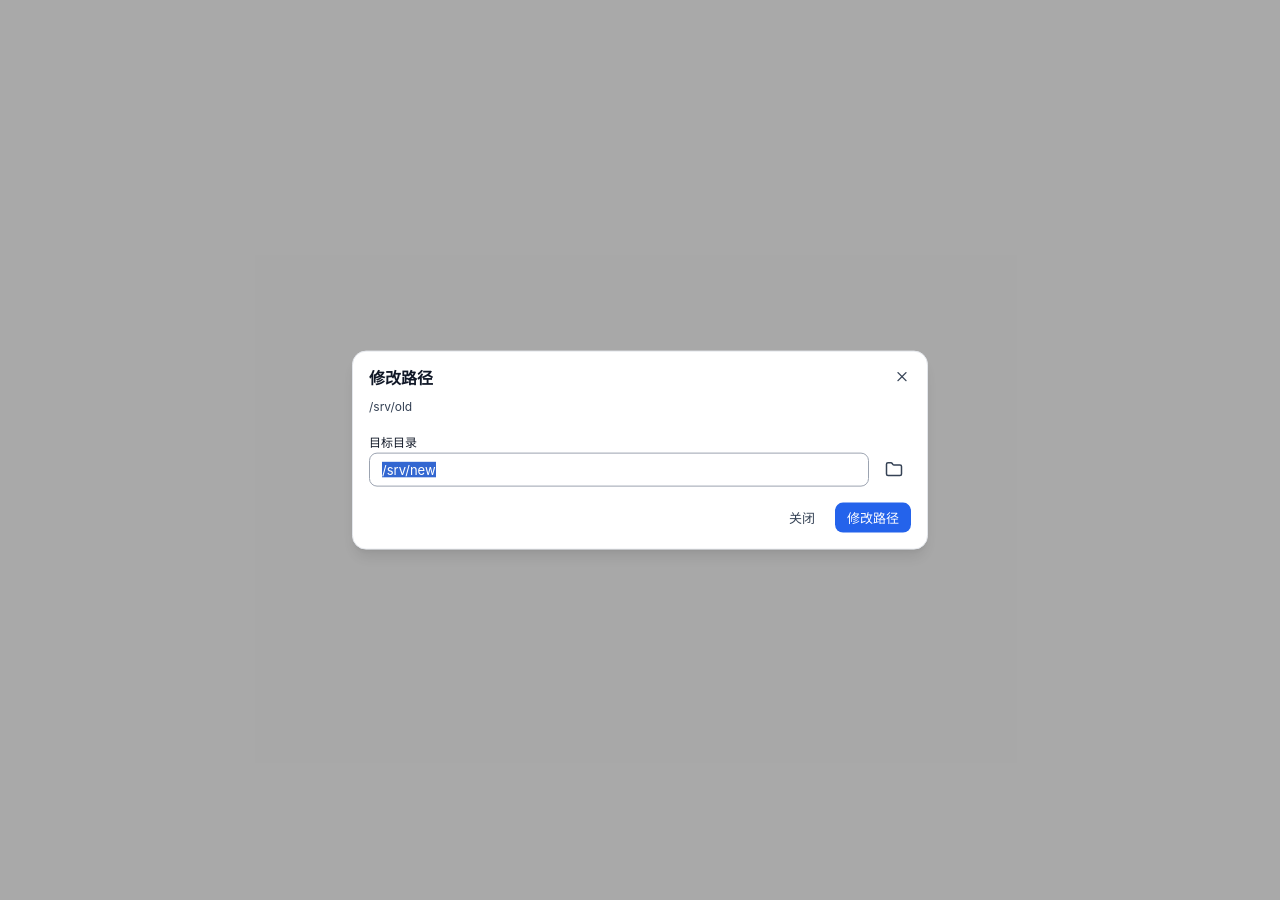
任务丢失回到空闲并刷新持久状态，不自动重新搬迁
Click the button "修改路径": (873, 517) left=835, top=502, right=911, bottom=532
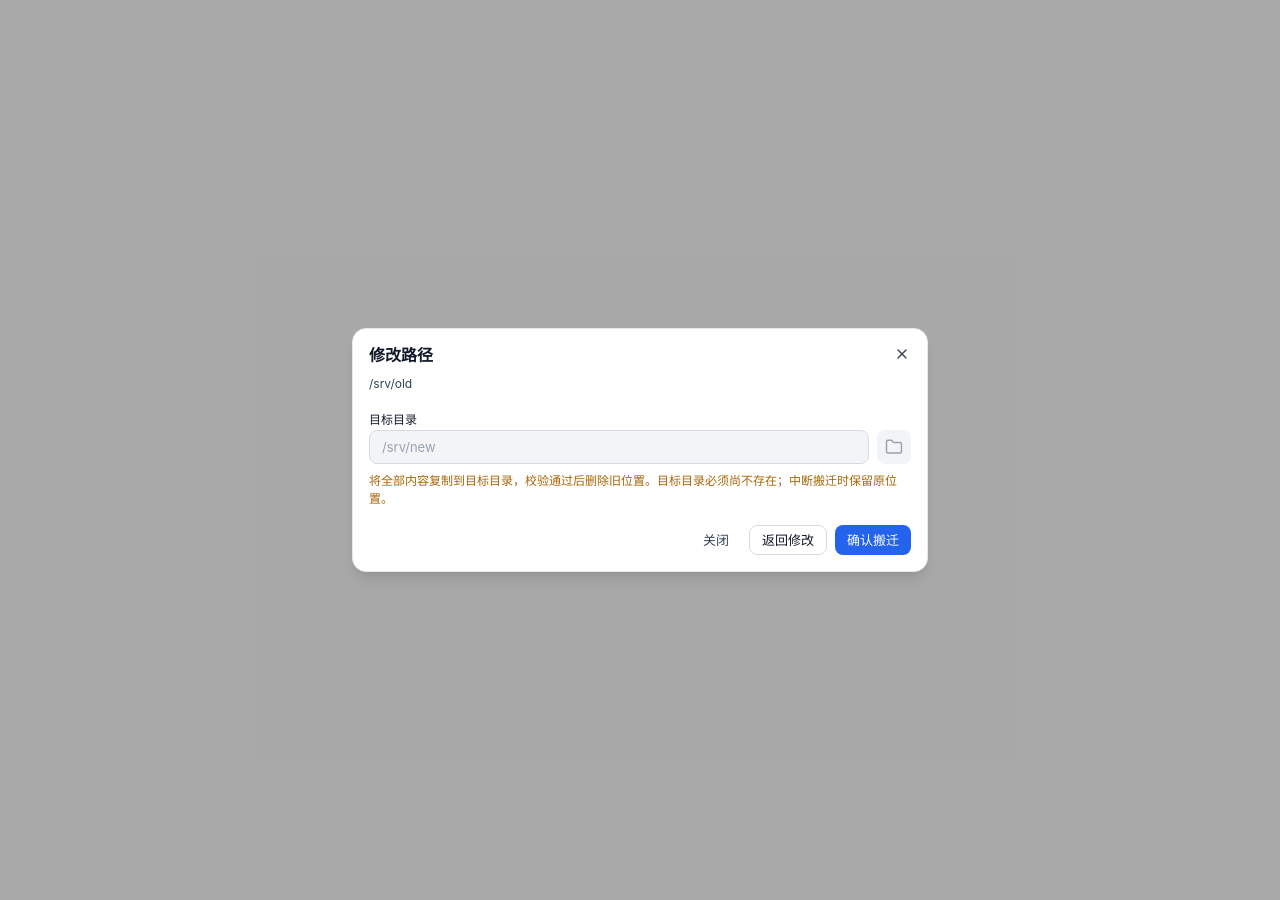
Click the button "确认搬迁": (873, 540) left=835, top=525, right=911, bottom=555
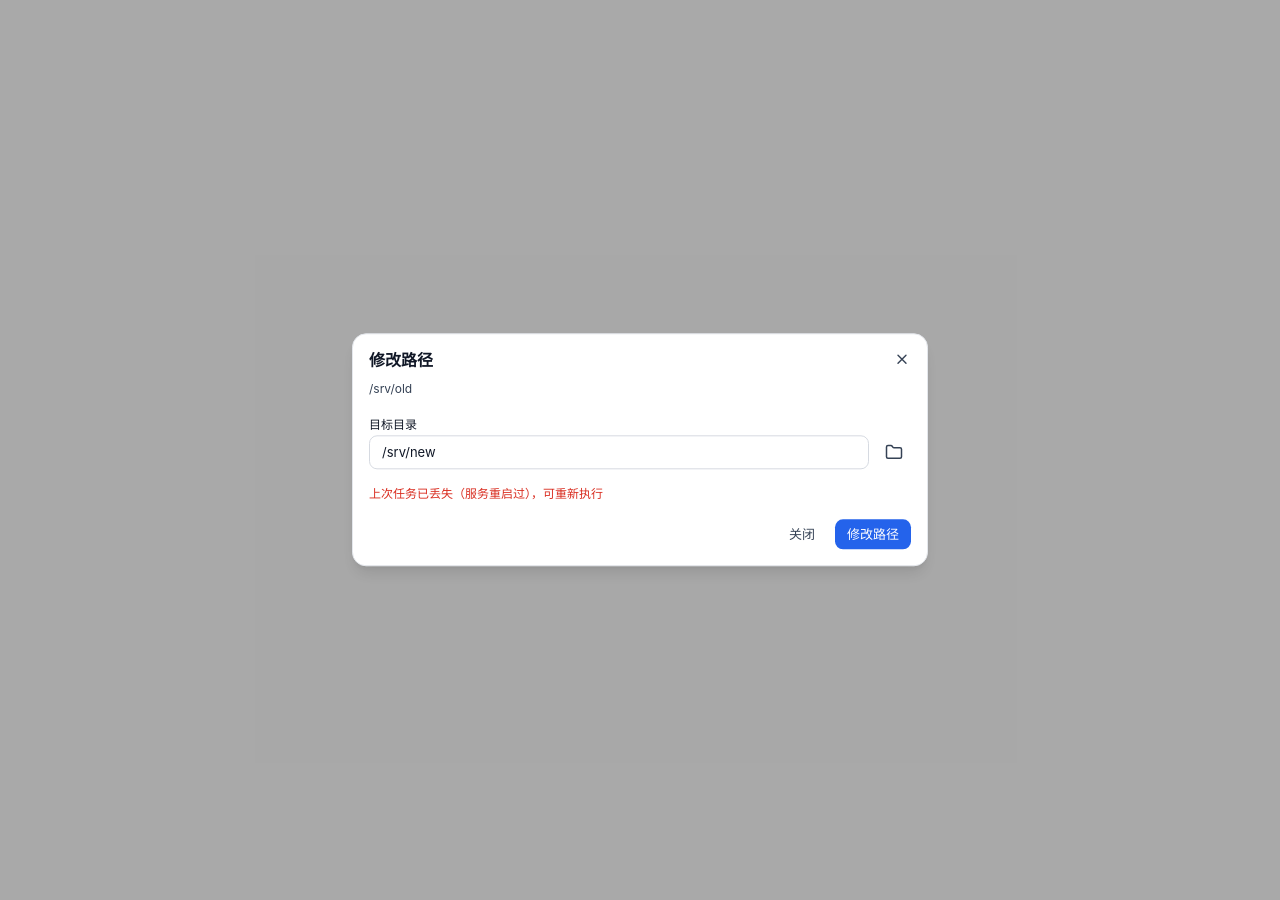
Expected: the message shows "上次任务已丢失", left=369, top=486, right=603, bottom=501
Expected: the field labelled "目标目录" is enabled, left=369, top=435, right=869, bottom=469
